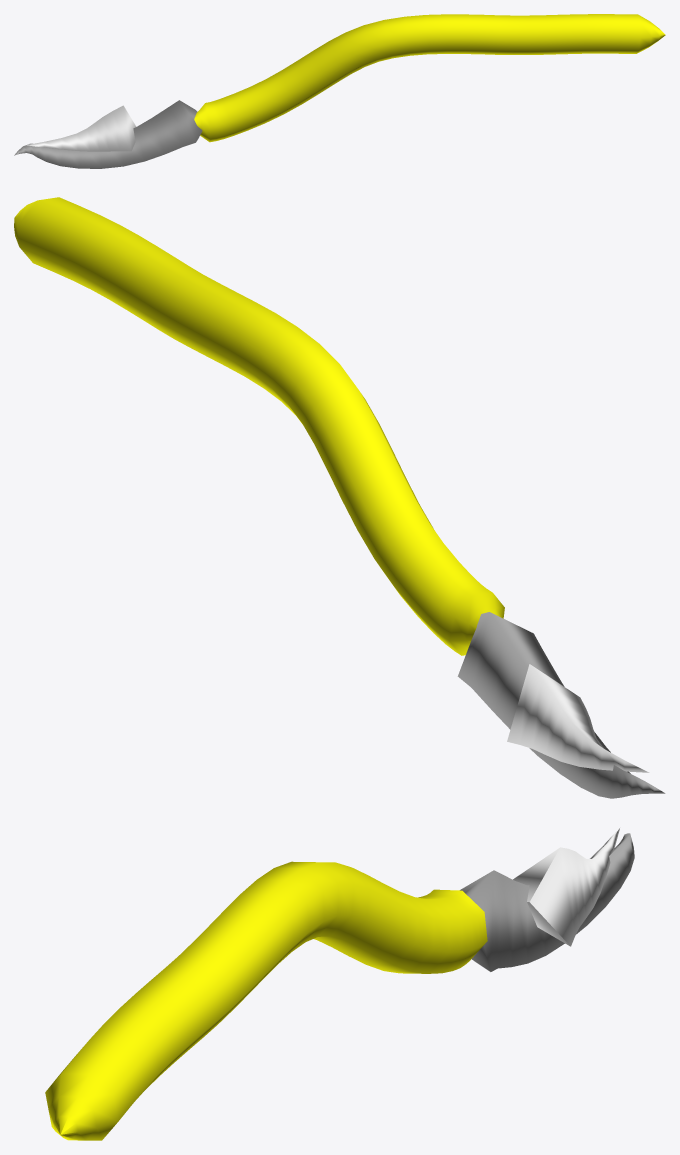
File: cutters_top.glb
The picture shows the model from 3 angles, top to bottom: view 1: azimuth 30°, elevation 25°; view 2: azimuth 150°, elevation 25°; view 3: azimuth 270°, elevation 25°; orthographic projection. The views are drawn at different scales.
Parts seen in each view (by area): view 1: RGBA(1.000, 0.984, 0.000, 1.000):ButtonWhite (Instance) (Ins, RGBA(0.373, 0.373, 0.373, 1.000):Spikes_16 (Instance) (Insta, RGBA(0.922, 0.922, 0.922, 1.000):Spikes_16 (Instance) (Insta; view 2: RGBA(1.000, 0.984, 0.000, 1.000):ButtonWhite (Instance) (Ins, RGBA(0.373, 0.373, 0.373, 1.000):Spikes_16 (Instance) (Insta, RGBA(0.922, 0.922, 0.922, 1.000):Spikes_16 (Instance) (Insta; view 3: RGBA(1.000, 0.984, 0.000, 1.000):ButtonWhite (Instance) (Ins, RGBA(0.373, 0.373, 0.373, 1.000):Spikes_16 (Instance) (Insta, RGBA(0.922, 0.922, 0.922, 1.000):Spikes_16 (Instance) (Insta.
Boxes of the visible parts, x1,y1,x2,y2 form: RGBA(1.000, 0.984, 0.000, 1.000):ButtonWhite (Instance) (Ins: [194, 14, 665, 142]; RGBA(0.373, 0.373, 0.373, 1.000):Spikes_16 (Instance) (Insta: [14, 100, 202, 168]; RGBA(0.922, 0.922, 0.922, 1.000):Spikes_16 (Instance) (Insta: [26, 105, 136, 151]; RGBA(1.000, 0.984, 0.000, 1.000):ButtonWhite (Instance) (Ins: [14, 197, 504, 655]; RGBA(0.373, 0.373, 0.373, 1.000):Spikes_16 (Instance) (Insta: [457, 612, 665, 798]; RGBA(0.922, 0.922, 0.922, 1.000):Spikes_16 (Instance) (Insta: [507, 664, 649, 772]; RGBA(1.000, 0.984, 0.000, 1.000):ButtonWhite (Instance) (Ins: [45, 861, 487, 1140]; RGBA(0.373, 0.373, 0.373, 1.000):Spikes_16 (Instance) (Insta: [460, 833, 634, 971]; RGBA(0.922, 0.922, 0.922, 1.000):Spikes_16 (Instance) (Insta: [513, 828, 619, 946].
Size of what is drawn, in the model's own units: 0.1901 by 0.0515 by 0.095.
